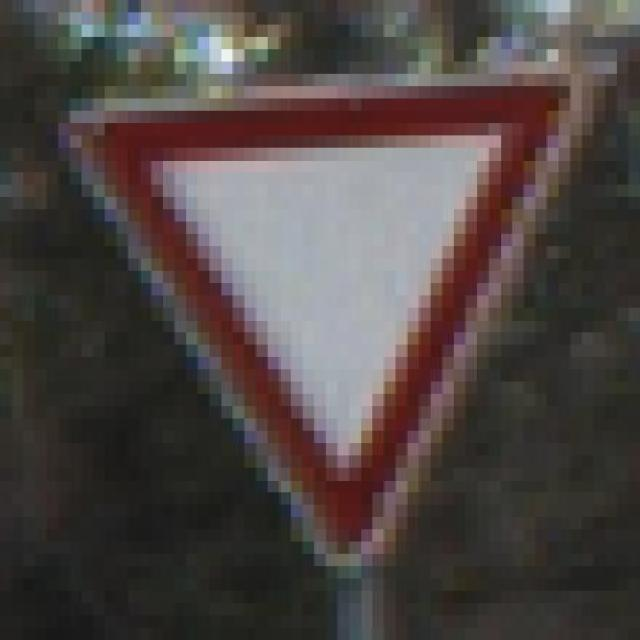Give Way: (58, 61, 594, 578)
